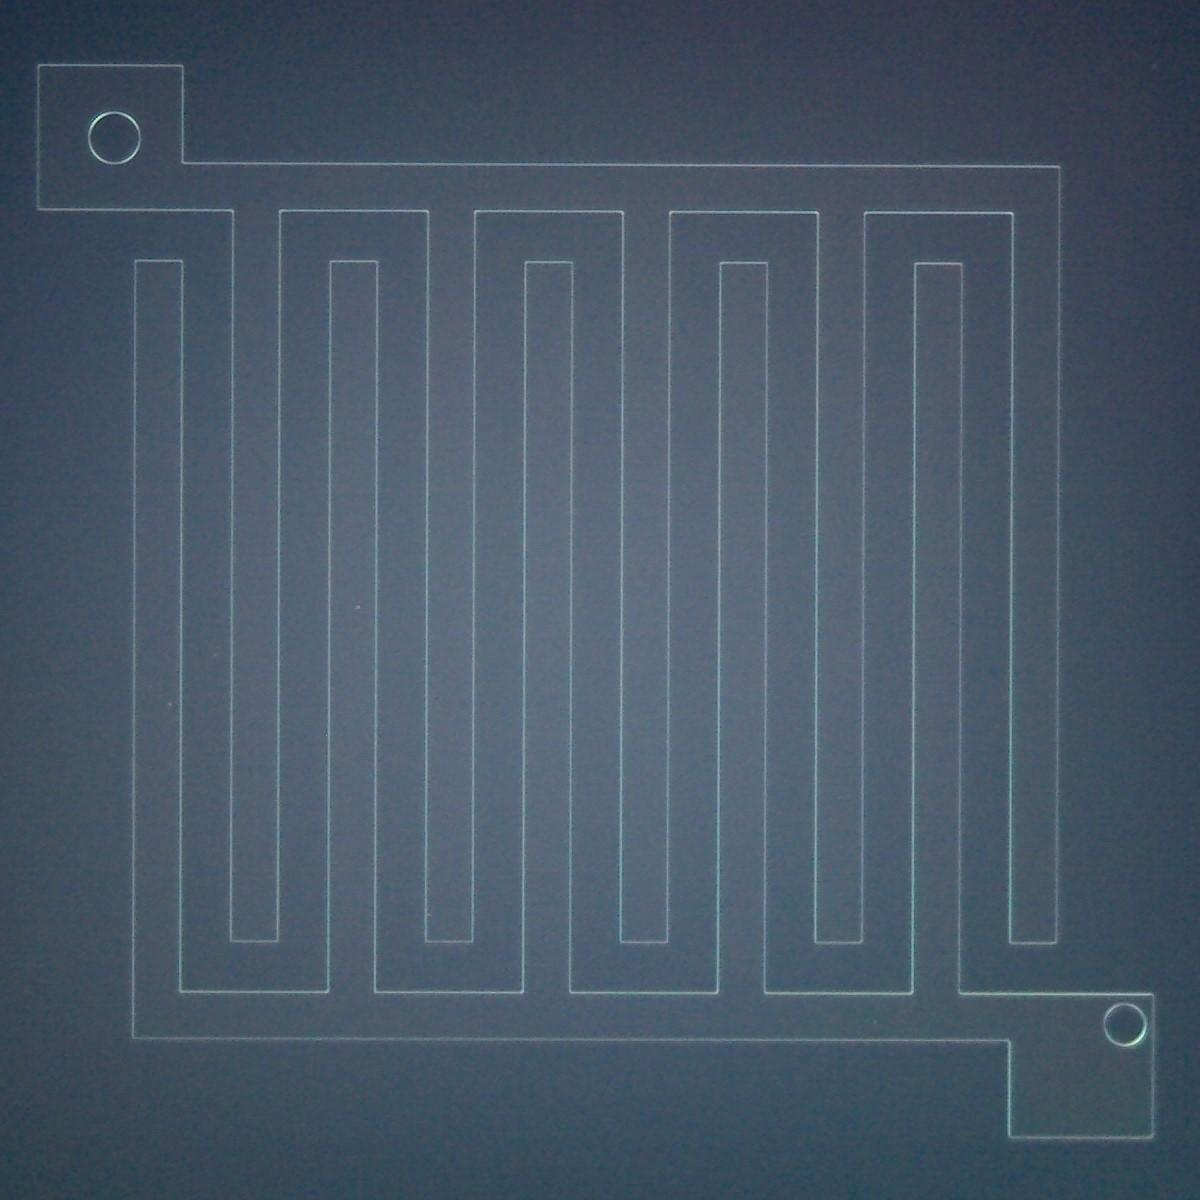circle: (87, 110, 143, 166), (1102, 1001, 1147, 1048)
s_point: (210, 651, 220, 660), (353, 603, 363, 612), (166, 701, 175, 709)
